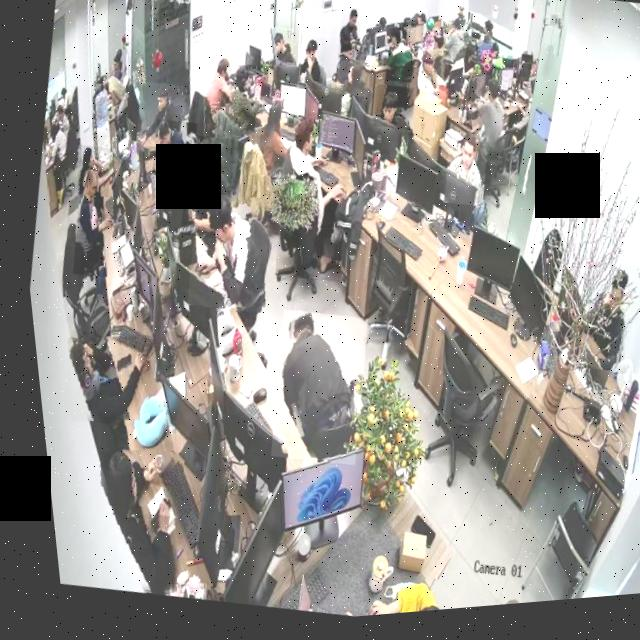person: (248, 309, 372, 476), (67, 440, 186, 603), (256, 116, 363, 291), (171, 191, 276, 322), (47, 326, 154, 435), (561, 267, 639, 386), (167, 135, 240, 246), (58, 164, 121, 282), (240, 98, 303, 187), (128, 81, 189, 156), (433, 137, 490, 217), (348, 572, 437, 621), (215, 65, 269, 145), (34, 107, 77, 205), (464, 81, 513, 162), (144, 119, 199, 185), (375, 25, 420, 92), (197, 56, 242, 119), (406, 51, 452, 112), (67, 144, 113, 201), (367, 88, 415, 139), (290, 40, 329, 98), (331, 11, 366, 69), (435, 21, 471, 76), (330, 61, 372, 106), (259, 29, 297, 75), (463, 20, 497, 64)
